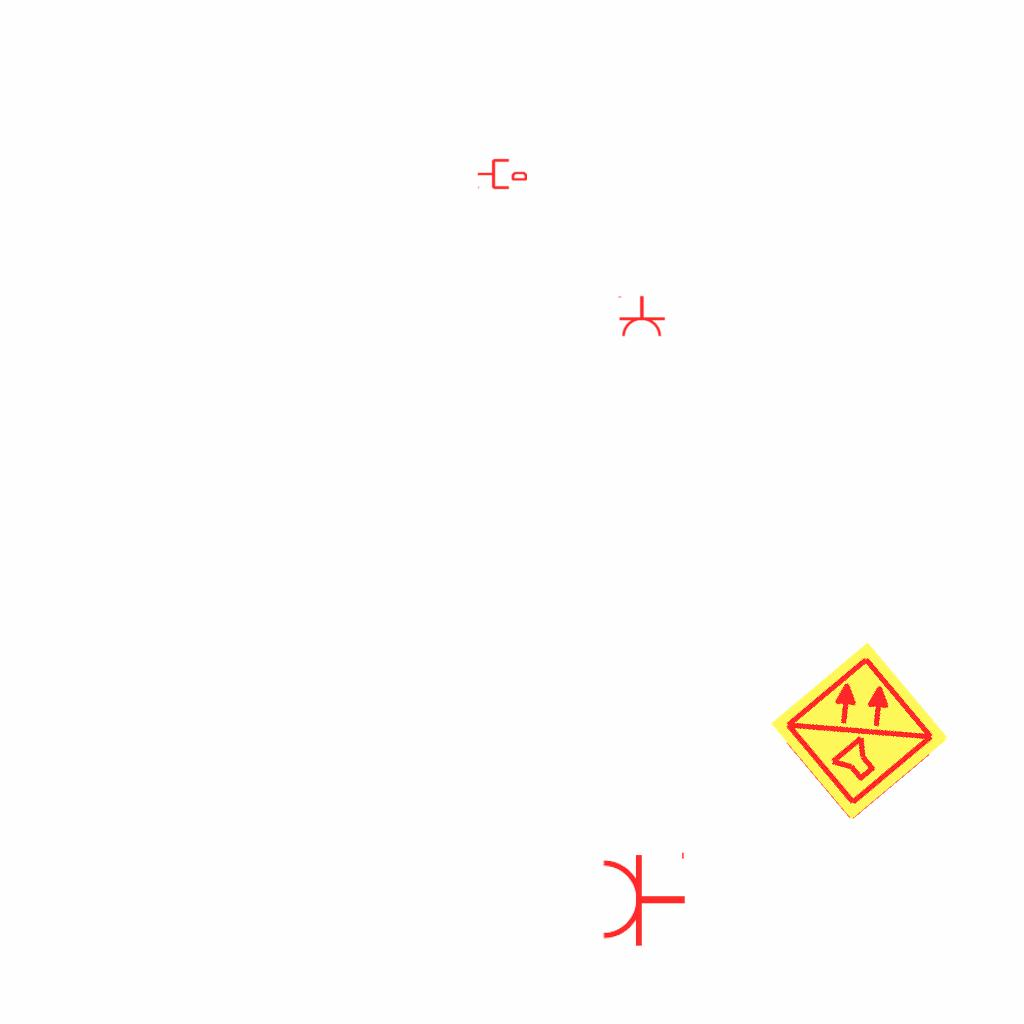Datenanschluss_einfach: (477, 157, 527, 191)
OKW_Multisensormelder_(Kombination_optischer_Rauch-Kahlenmonoxid_Waerme-Melder): (767, 638, 953, 824)
Schukosteckdose_einfach: (600, 848, 687, 948), (616, 295, 666, 338)
